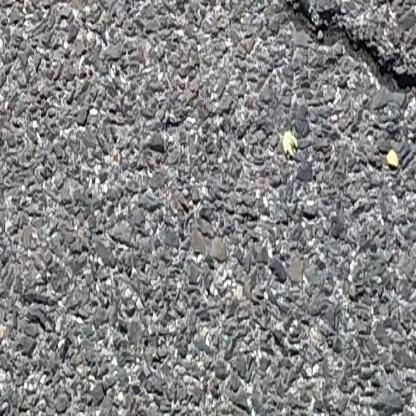Cracks: (274, 0, 416, 113)
